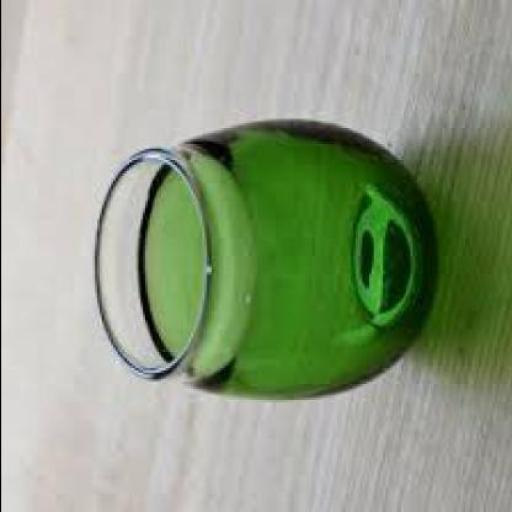glass: (91, 126, 430, 400)
